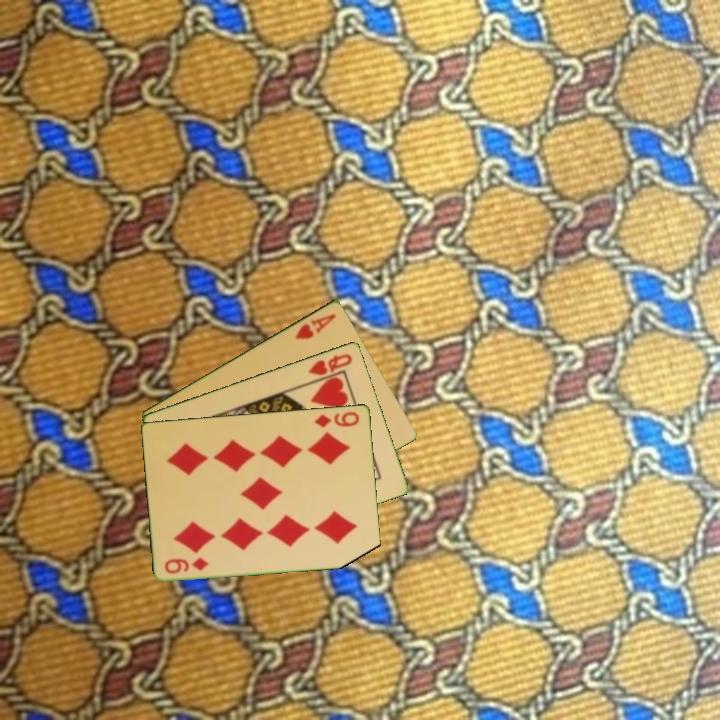9d: (161, 553, 212, 576), (312, 408, 362, 430)
Ah: (291, 310, 339, 342)
Qh: (304, 349, 355, 378)
